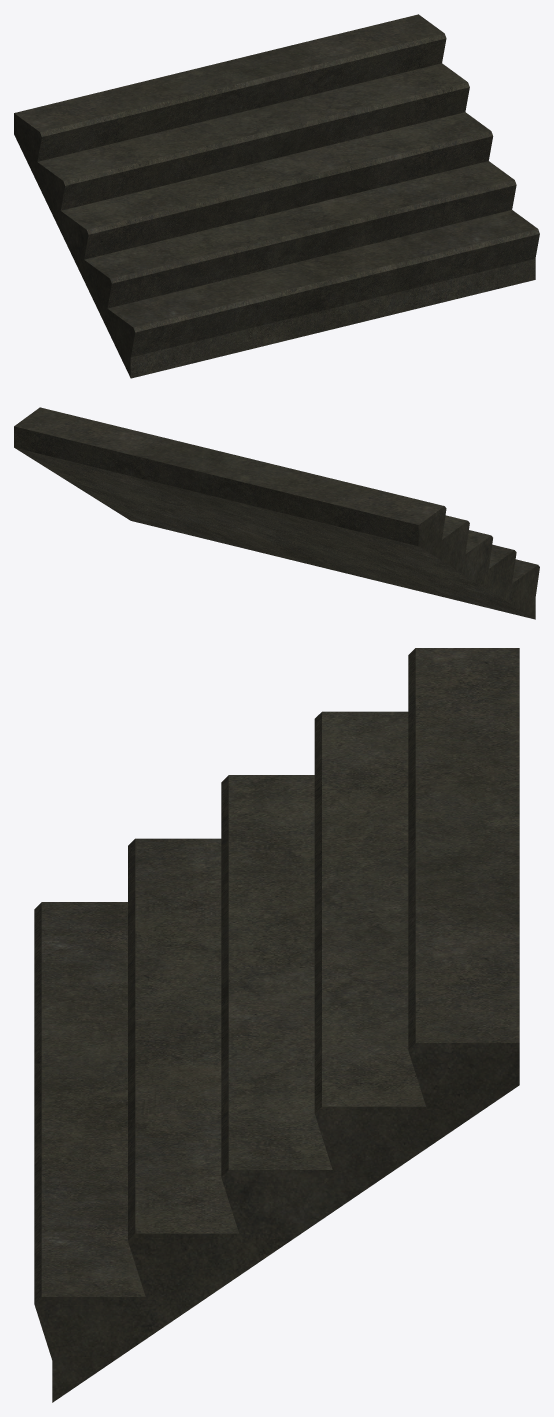
Rendered from stairs_3.obj.
The picture shows the model from 3 angles, top to bottom: view 1: azimuth 30°, elevation 25°; view 2: azimuth 150°, elevation 25°; view 3: azimuth 270°, elevation 25°; orthographic projection. The views are drawn at different scales.
Visible parts, largest first — view 1: stairs_3; view 2: stairs_3; view 3: stairs_3.
Boxes of the visible parts, bbox=[...] form: stairs_3: bbox=[14, 14, 539, 378]; stairs_3: bbox=[14, 407, 539, 619]; stairs_3: bbox=[34, 648, 519, 1402].
Size of the model in its own units: 4 by 1.7 by 2.08.
